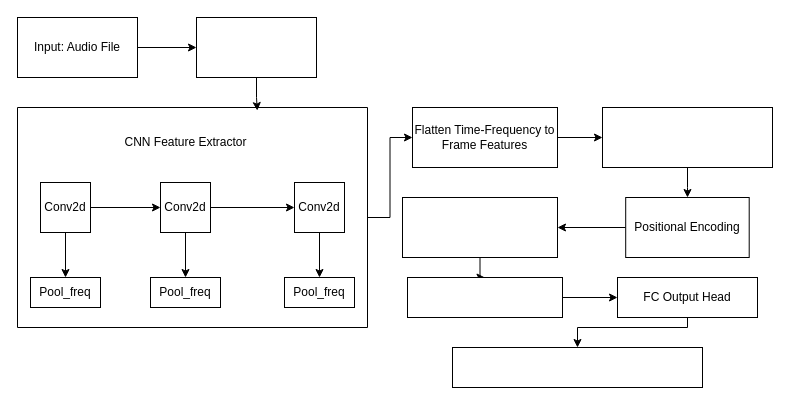
The diagram is 790 pixels wide and 405 high, and some of its shapes have lost their labels. Each missing label, with the centre of its shape:
Dropout (0.3): [484,297]
Frame-wise Class Logits: [577,367]
Linear Projection to d_model: [687,137]
MelSpectogram: [256,47]
Transformer Encoder: [480,227]
